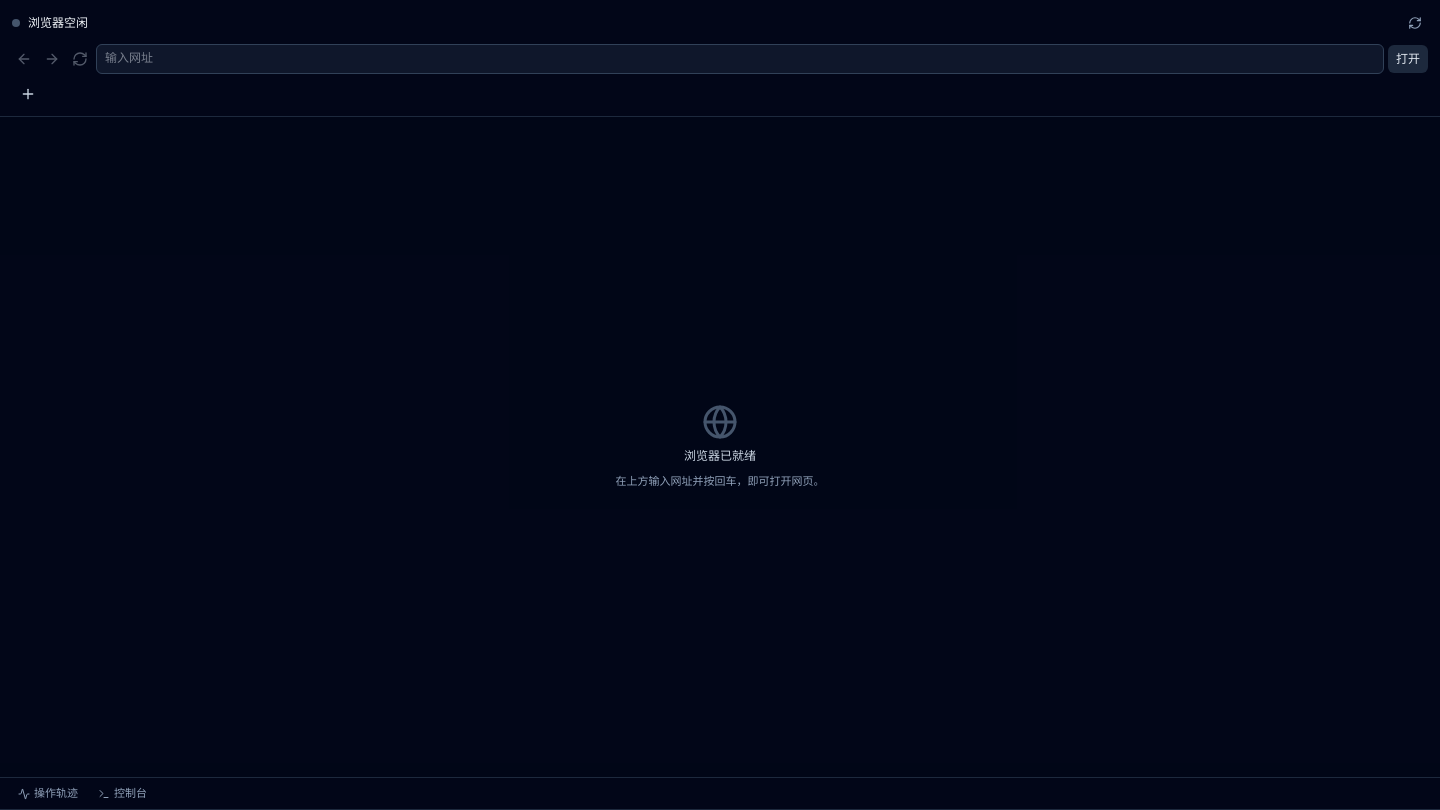
Test: Web Browser Use desktop UI & store › explains a missing panel endpoint and keeps the address for another attempt
In the field named "浏览器地址栏": x=740, y=59 [96,44,1384,74], type "example.com"
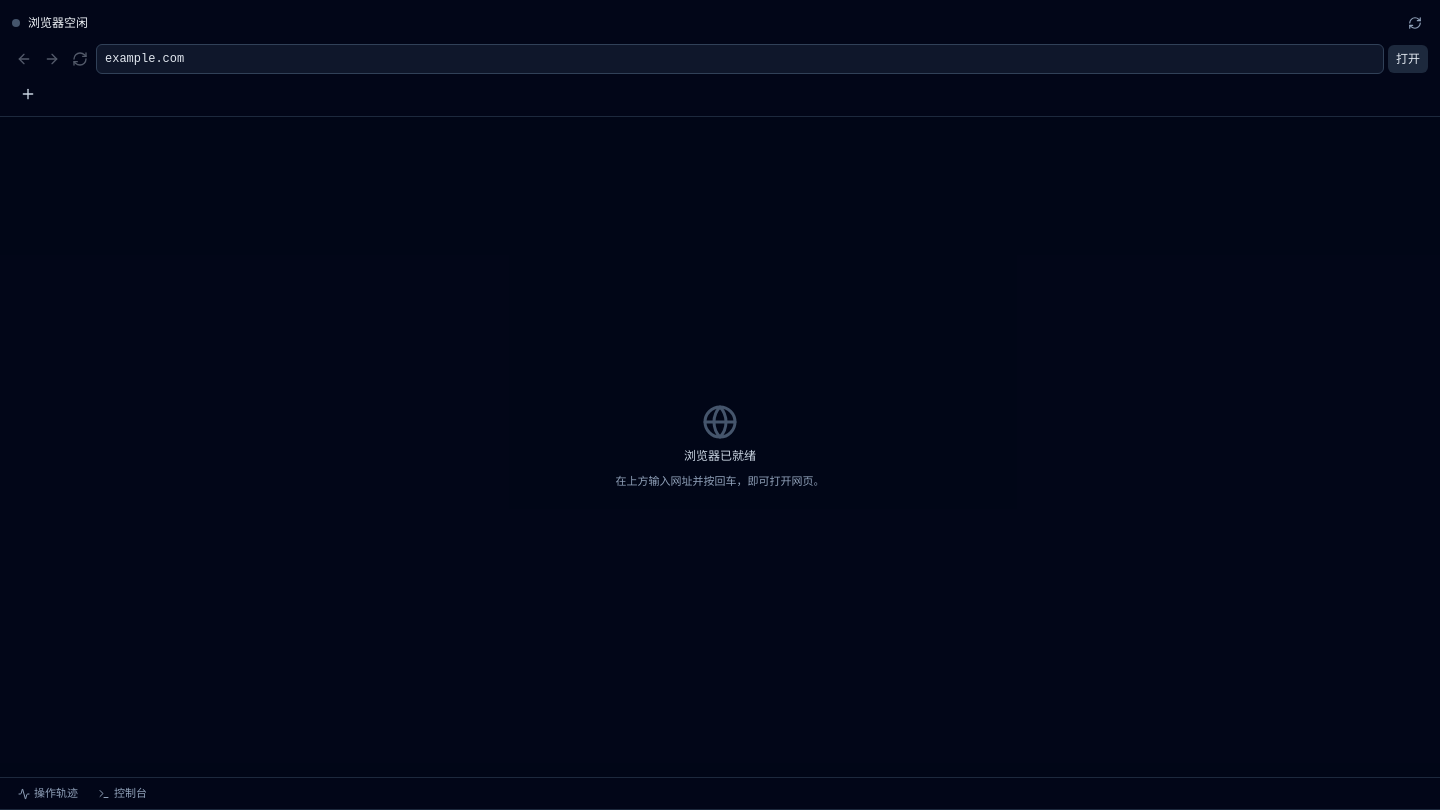
Click the button "打开": x=1408, y=59 [1388,45,1428,73]
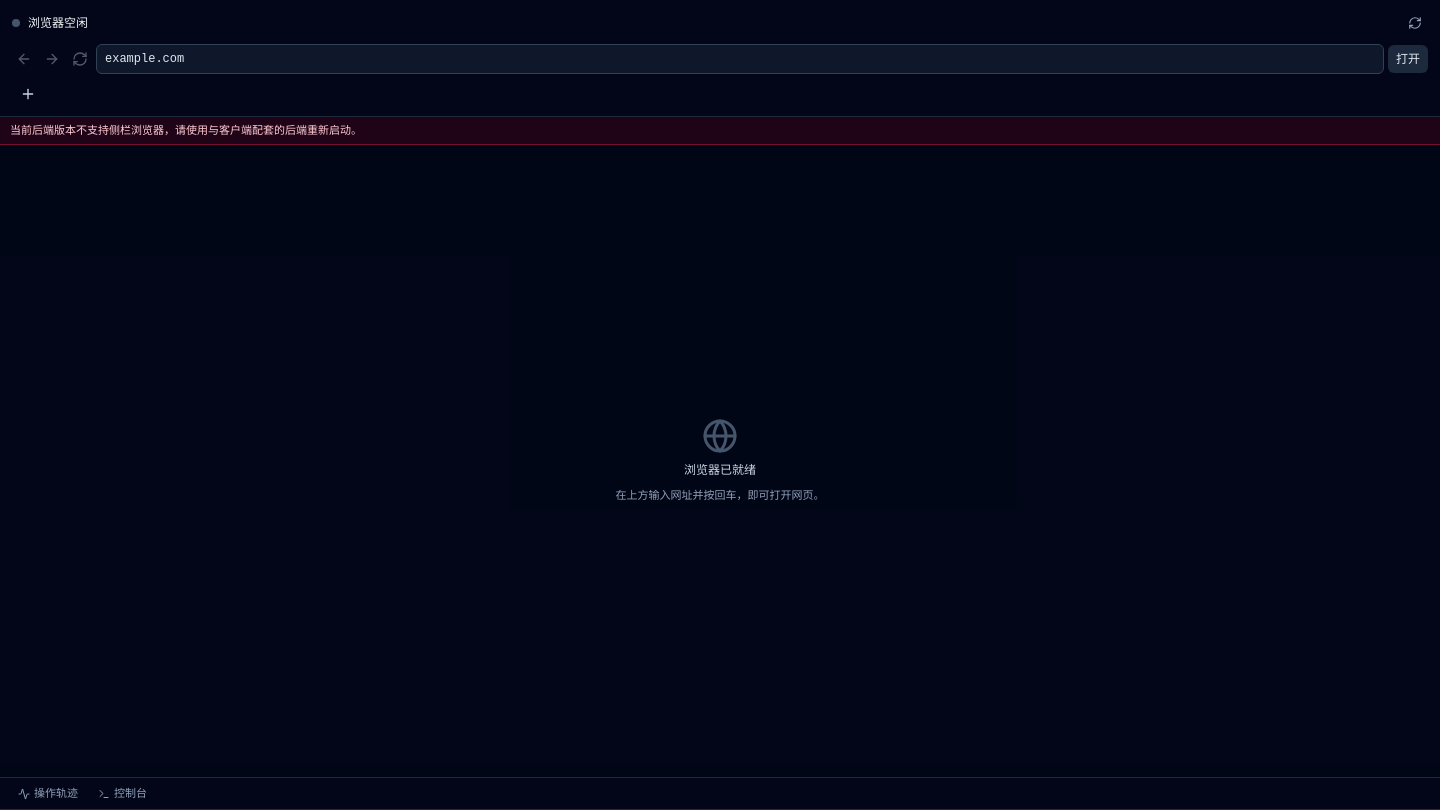
Expected: the text "当前后端版本不支持侧栏浏览器，请使用与客户端配套的后端重新启动。" is shown, [0,117,1439,145]
